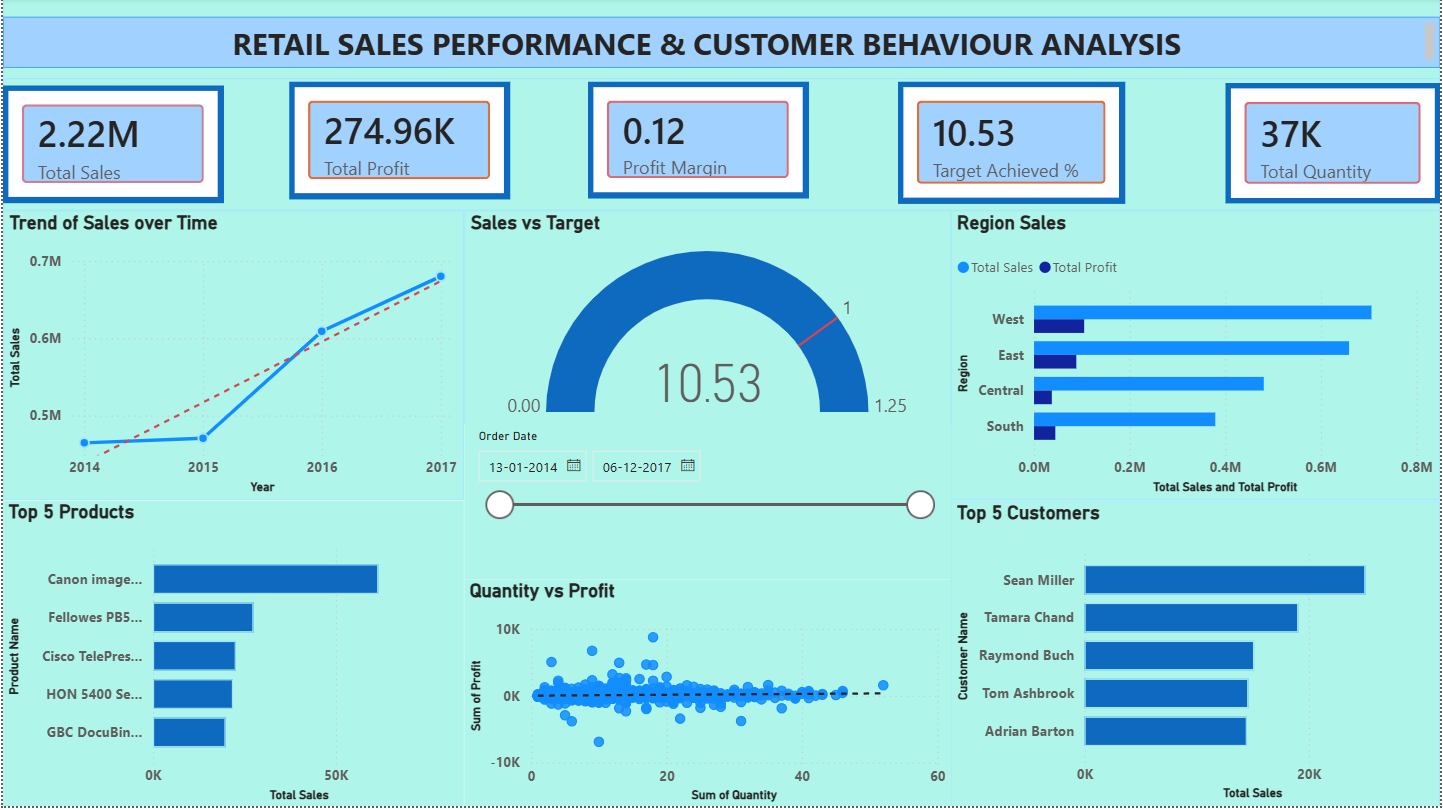

Layout of this report page (visuals, bound fields, positions):
{"tool":"powerbi","page":{"name":"DASHBOARD","canvas":[1280,720],"ordinal":18},"visuals":[{"type":"shape","box":[0,0,1280,78.4],"z":0},{"type":"textbox","box":[0,16.5,1280.3,45.3],"z":1000},{"type":"shape","box":[0,71.2,1280,118.2],"z":2000},{"type":"cardVisual","fields":{"Data":["Retails Order Full Dataset.Total Sales"]},"box":[0,78.4,196.6,105],"z":3000},{"type":"cardVisual","fields":{"Data":["Retails Order Full Dataset.Total Profit"]},"box":[254.6,74.8,196.6,105],"z":4000},{"type":"cardVisual","fields":{"Data":["Retails Order Full Dataset.Profit Margin"]},"box":[521.2,74.8,196.6,103.8],"z":5000},{"type":"cardVisual","fields":{"Data":["Retails Order Full Dataset.Target Achieved %"]},"box":[797.5,74.8,202.7,108.6],"z":6000},{"type":"cardVisual","fields":{"Data":["Retails Order Full Dataset.Total Quantity"]},"box":[1088.2,76,191.8,107.4],"z":7000},{"type":"clusteredBarChart","title":"Region Sales","fields":{"Category":["Retails Order Full Dataset.Region"],"Y":["Retails Order Full Dataset.Total Sales","Retails Order Full Dataset.Total Profit"]},"box":[843.9,189.4,436.4,258],"z":8000},{"type":"gauge","title":"Sales vs Target","fields":{"Y":["Retails Order Full Dataset.Target Achieved %"],"TargetValue":["Retails Order Full Dataset.Target Value Measure"],"MaxValue":["Retails Order Full Dataset.Max Gauge"]},"box":[410.3,189.4,433.6,190.7],"z":9000},{"type":"barChart","title":"Top 5 Products","fields":{"Category":["Retails Order Full Dataset.Product Name"],"Y":["Retails Order Full Dataset.Total Sales"]},"box":[0,447.3,410.3,273.1],"z":10000},{"type":"barChart","title":"Top 5 Customers","fields":{"Category":["Retails Order Full Dataset.Customer Name"],"Y":["Retails Order Full Dataset.Total Sales"]},"box":[843.9,447.3,436.4,273.1],"z":11000},{"type":"scatterChart","title":"Quantity vs Profit","fields":{"X":["Sum(Retails Order Full Dataset.Quantity)"],"Y":["Sum(Retails Order Full Dataset.Profit)"],"Category":["Retails Order Full Dataset.Order ID"]},"box":[410.3,517.3,433.6,203.1],"z":12000},{"type":"lineChart","title":"Trend of Sales over Time","fields":{"Y":["Retails Order Full Dataset.Total Sales"],"Category":["Retails Order Full Dataset.Order Date.Variation.Date Hierarchy.Year"]},"box":[0,189.4,410.3,258],"z":13000},{"type":"slicer","fields":{"Values":["Retails Order Full Dataset.Order Date"]},"box":[410.3,378.7,433.6,138.6],"z":15000}]}

Visuals, with their boxes in screenshot pixels (x1, y1, x2, y2), scaled from the page's 1280x720 canvas onto the 1443x810 screenshot:
shape: [0,0,1442,88]
textbox: [0,19,1442,70]
shape: [0,80,1442,213]
cardVisual - Retails Order Full Dataset.Total Sales: [0,88,222,206]
cardVisual - Retails Order Full Dataset.Total Profit: [287,84,509,202]
cardVisual - Retails Order Full Dataset.Profit Margin: [588,84,809,201]
cardVisual - Retails Order Full Dataset.Target Achieved %: [899,84,1128,206]
cardVisual - Retails Order Full Dataset.Total Quantity: [1227,86,1442,206]
"Region Sales" clusteredBarChart: [951,213,1442,503]
"Sales vs Target" gauge: [463,213,951,428]
"Top 5 Products" barChart: [0,503,463,809]
"Top 5 Customers" barChart: [951,503,1442,809]
"Quantity vs Profit" scatterChart: [463,582,951,809]
"Trend of Sales over Time" lineChart: [0,213,463,503]
slicer - Retails Order Full Dataset.Order Date: [463,426,951,582]
